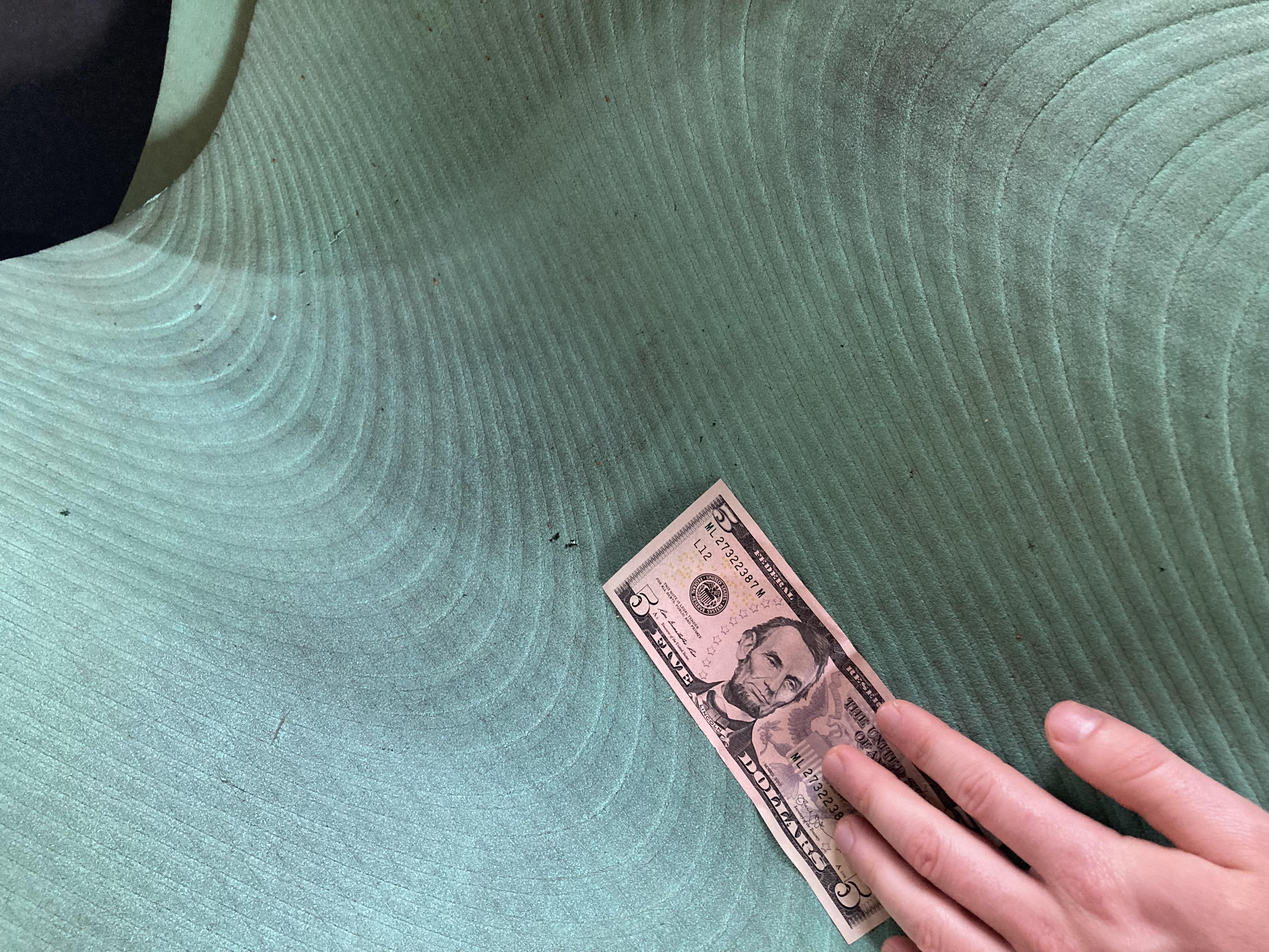five-front: (11, 450, 632, 753)
